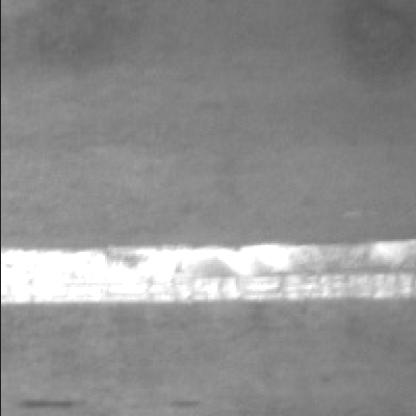scratches: (4, 237, 416, 316)
